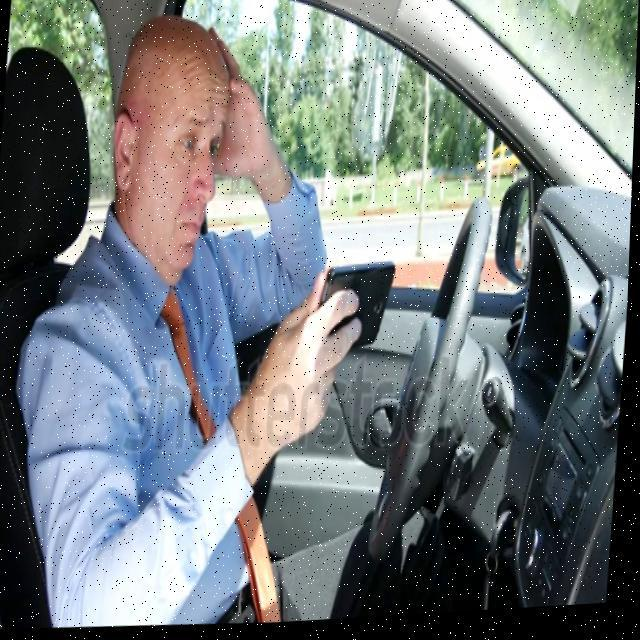PhoneCall: (312, 267, 398, 352)
